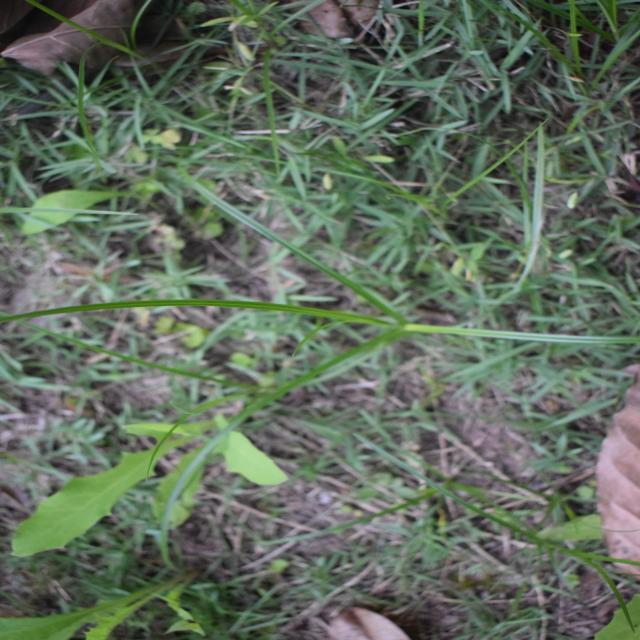sedge: (205, 59, 470, 544)
